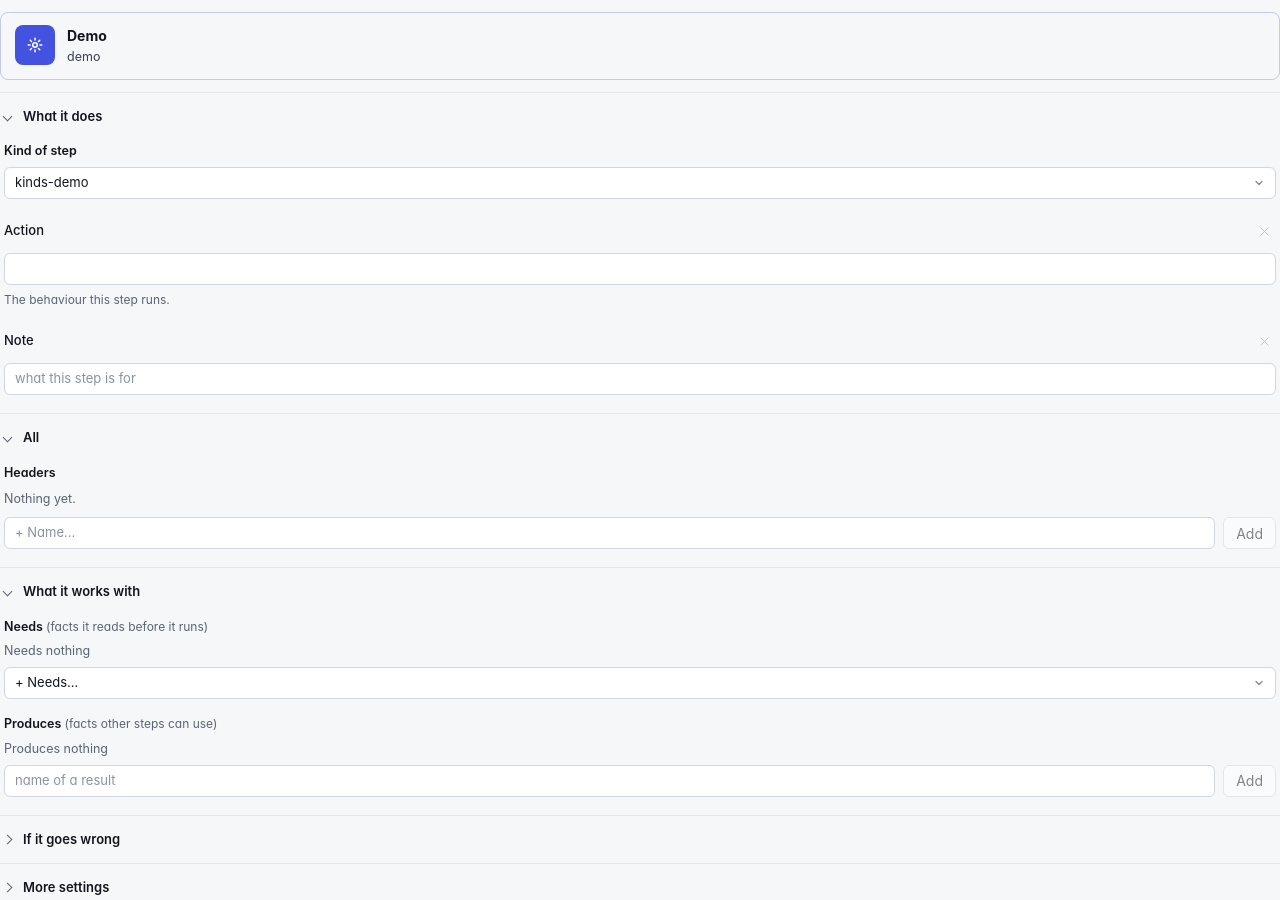
each kind of field writes the right BCL › keyValue: a name that cannot be a key is refused, with a reason
Step 1. Type "not ok!" into the field named "Add to Headers" → coordinates (610, 533), box [4,517,1215,549]
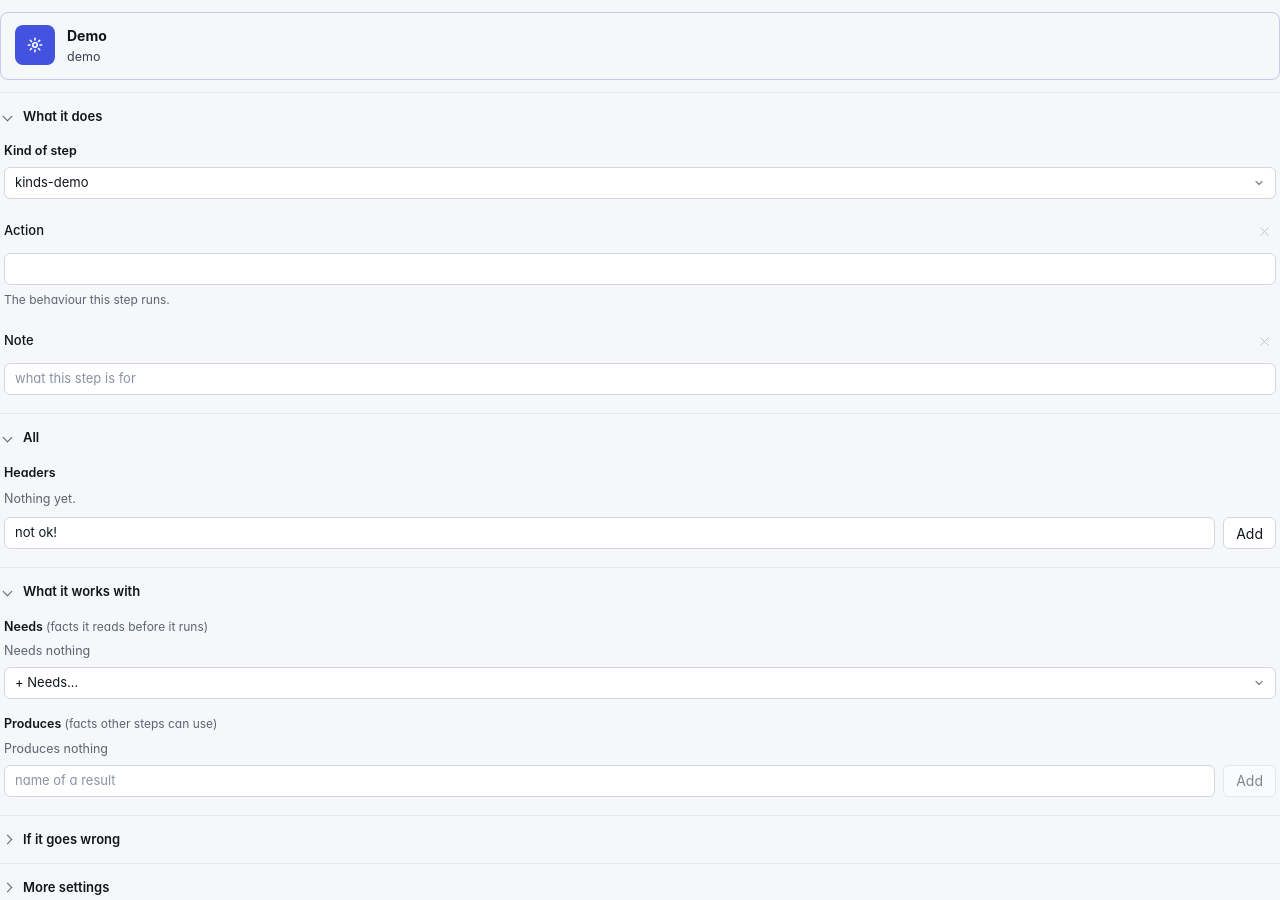
Step 2. Click the 1st button "Add" → coordinates (1250, 533), box [1223,517,1276,549]
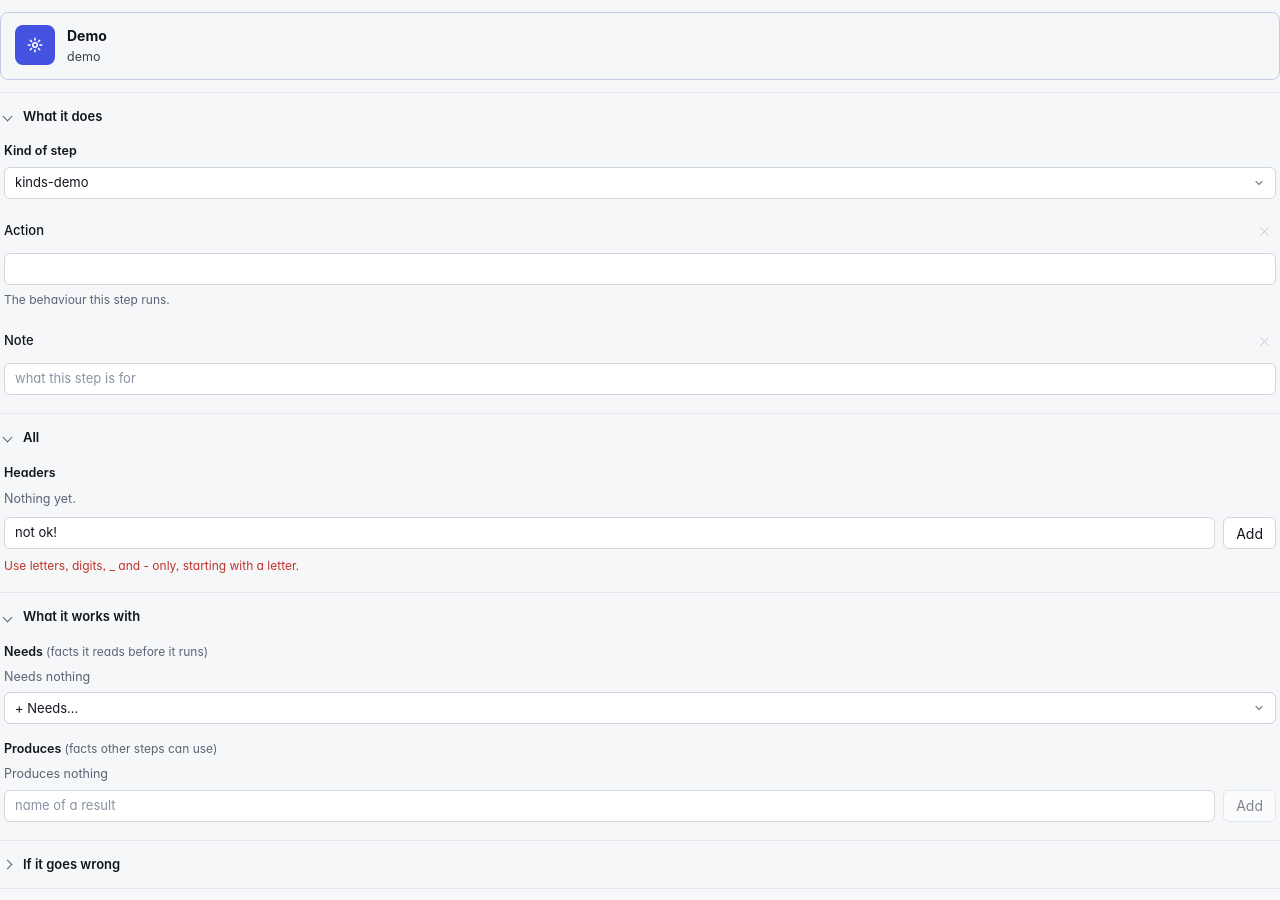
Check: the message shows "letters, digits", box [4,558,299,573]
